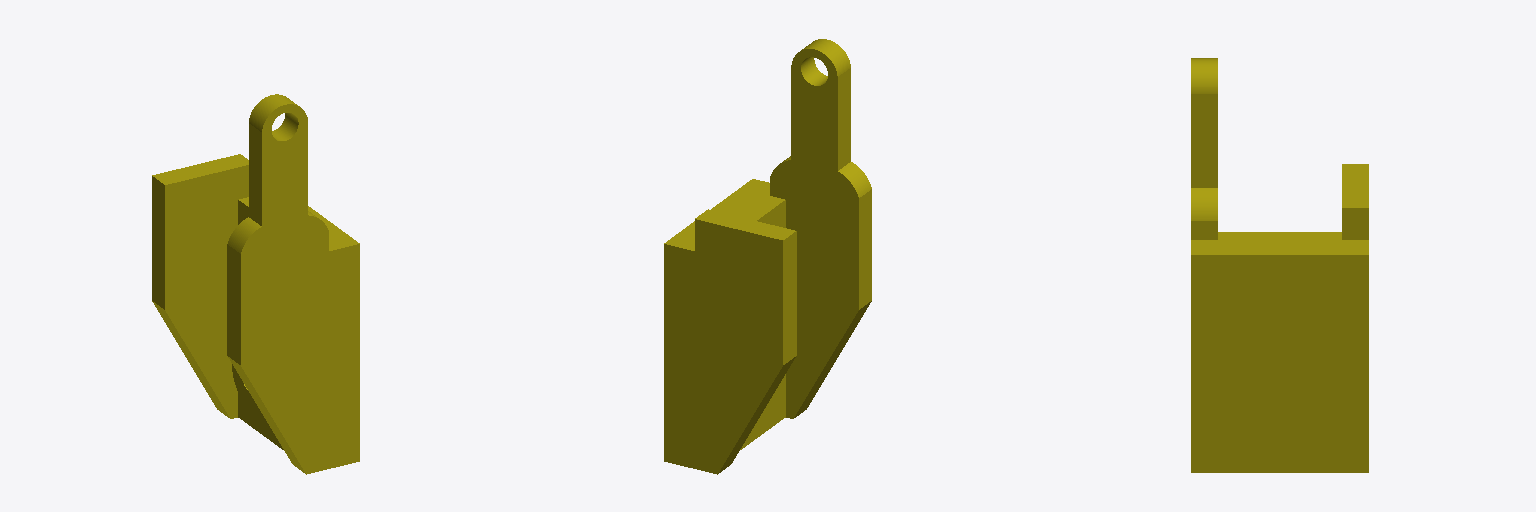
File: Pinza_Izquierda_Organo_terminal.obj
3 views of the same model, side by side, from view 1: azimuth 30°, elevation 25°; view 2: azimuth 150°, elevation 25°; view 3: azimuth 270°, elevation 25° (orthographic).
Parts seen in each view (by area): view 1: Boss_Extrude5; view 2: Boss_Extrude5; view 3: Boss_Extrude5.
Part boxes in pixels (x1,y1,x2,y2): Boss_Extrude5: (152,94,359,474); Boss_Extrude5: (664,39,871,474); Boss_Extrude5: (1191,58,1368,472).
Bounding box in the file's own units: 6.1 × 18.31 × 7.87.